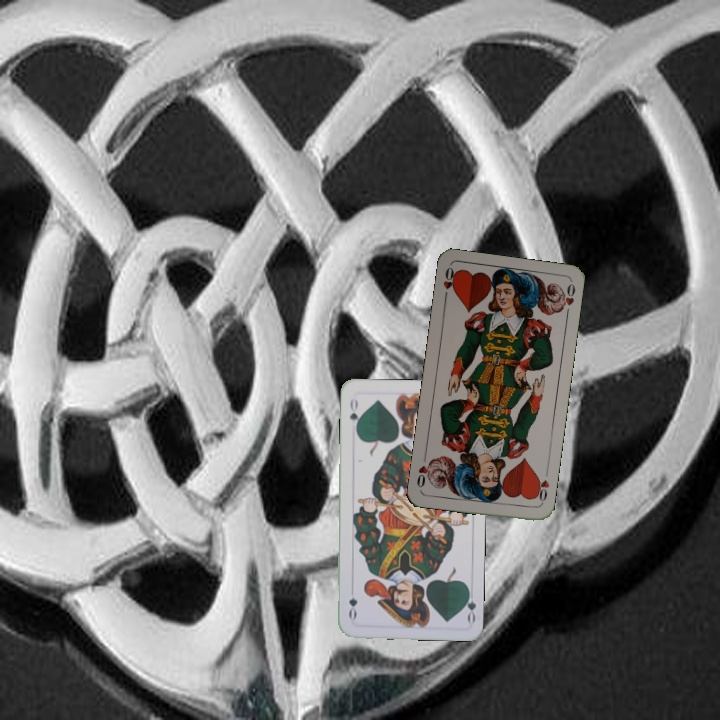GO: (459, 584, 479, 625), (345, 393, 362, 434)
HO: (531, 466, 552, 507), (439, 263, 459, 304)
